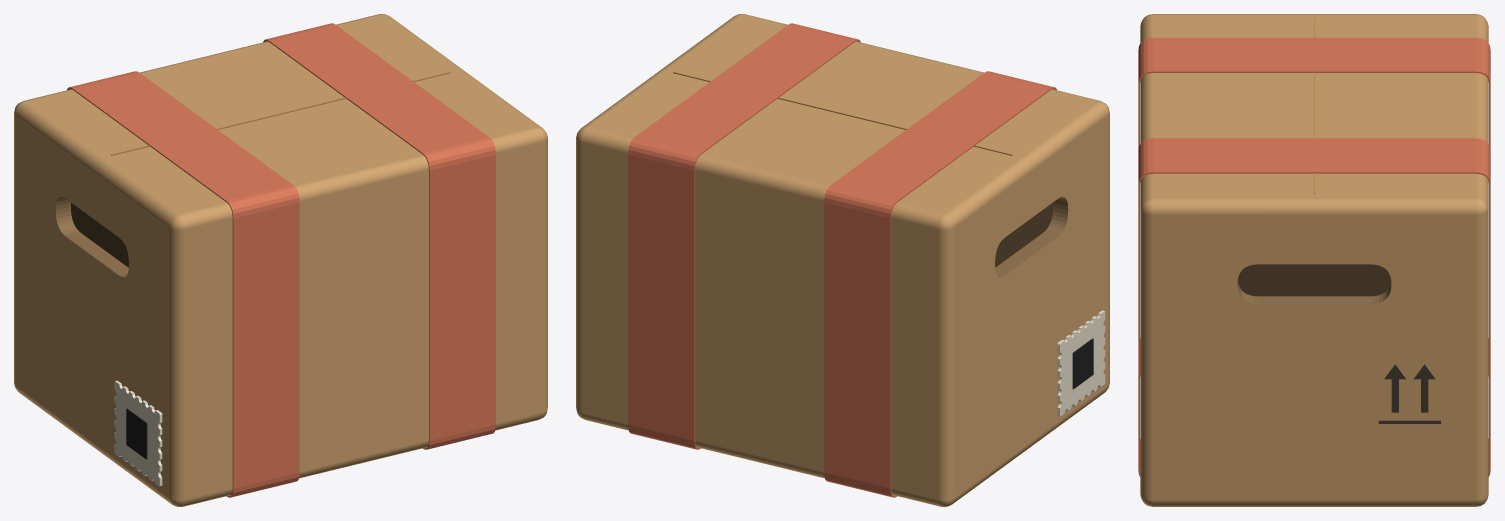
File: play-parcel-large-coral.glb
3 renders of one model, left to right at view 1: azimuth 30°, elevation 25°; view 2: azimuth 150°, elevation 25°; view 3: azimuth 270°, elevation 25°, orthographic. The views are drawn at different scales.
Parts seen in each view (by area): view 1: Parcel_Carton, Parcel_Tape_Parallel_1, Parcel_Tape_Parallel_2, Parcel_Paper_Label, Parcel_Carry_Slot_Walls_Negative_X, Parcel_Carry_Slot_Interior_Negative_X, Parcel_Label_Square; view 2: Parcel_Carton, Parcel_Tape_Parallel_1, Parcel_Tape_Parallel_2, Parcel_Paper_Label, Parcel_Carry_Slot_Walls_Negative_X, Parcel_Carry_Slot_Interior_Negative_X, Parcel_Label_Square; view 3: Parcel_Carton, Parcel_Tape_Parallel_2, Parcel_Tape_Parallel_1, Parcel_Carry_Slot_Interior_Positive_X, Parcel_Carry_Slot_Walls_Positive_X, Parcel_Up_Arrows_Positive_X.
Boxes of the visible parts, <box> form: Parcel_Carton: <box>14,14,547,506</box>; Parcel_Tape_Parallel_1: <box>67,71,299,497</box>; Parcel_Tape_Parallel_2: <box>263,23,495,449</box>; Parcel_Paper_Label: <box>114,380,162,486</box>; Parcel_Carry_Slot_Walls_Negative_X: <box>55,197,128,277</box>; Parcel_Carry_Slot_Interior_Negative_X: <box>71,202,128,267</box>; Parcel_Label_Square: <box>126,408,147,459</box>; Parcel_Carton: <box>576,14,1109,506</box>; Parcel_Tape_Parallel_1: <box>824,71,1056,497</box>; Parcel_Tape_Parallel_2: <box>628,23,860,449</box>; Parcel_Paper_Label: <box>1057,310,1105,416</box>; Parcel_Carry_Slot_Walls_Negative_X: <box>995,197,1068,277</box>; Parcel_Carry_Slot_Interior_Negative_X: <box>995,202,1052,267</box>; Parcel_Label_Square: <box>1072,338,1093,389</box>; Parcel_Carton: <box>1140,14,1488,506</box>; Parcel_Tape_Parallel_2: <box>1138,138,1490,476</box>; Parcel_Tape_Parallel_1: <box>1138,37,1490,376</box>; Parcel_Carry_Slot_Interior_Positive_X: <box>1237,264,1391,296</box>; Parcel_Carry_Slot_Walls_Positive_X: <box>1237,281,1391,304</box>; Parcel_Up_Arrows_Positive_X: <box>1378,364,1440,423</box>.
Bounding box in the file's own units: 0.253 × 0.187 × 0.192.
